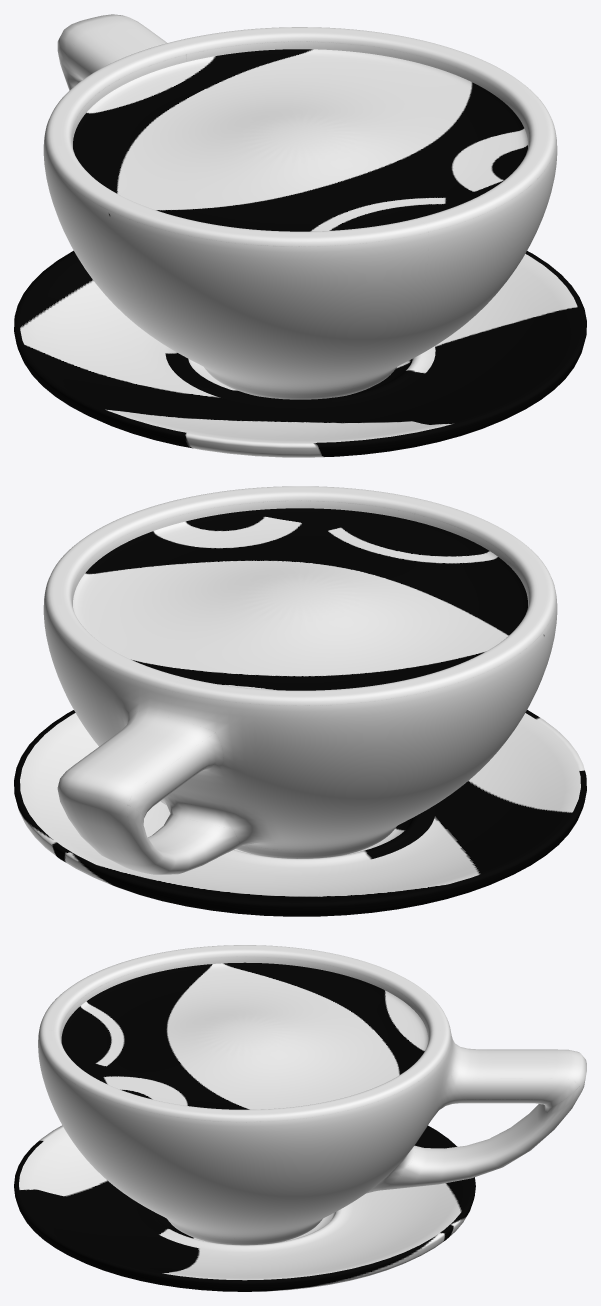
The model's file is Kopi.fbx.
The picture shows the model from 3 angles, top to bottom: view 1: azimuth 30°, elevation 25°; view 2: azimuth 150°, elevation 25°; view 3: azimuth 270°, elevation 25°; orthographic projection. The views are drawn at different scales.
Visible parts, largest first — view 1: Hrnek.001, Coffee.001, Podsalek.001; view 2: Hrnek.001, Coffee.001, Podsalek.001; view 3: Hrnek.001, Coffee.001, Podsalek.001.
Part boxes in pixels (box(x1,y1,x2,y2)): Hrnek.001: box(43, 14, 557, 399); Coffee.001: box(73, 49, 527, 231); Podsalek.001: box(14, 250, 586, 457); Hrnek.001: box(43, 486, 557, 874); Coffee.001: box(73, 508, 527, 690); Podsalek.001: box(14, 710, 586, 916); Hrnek.001: box(38, 945, 586, 1245); Coffee.001: box(61, 962, 428, 1109); Podsalek.001: box(14, 1125, 475, 1291).
Bounding box in the file's own units: 217 × 105 × 269.
3 materials, 3 textured.
